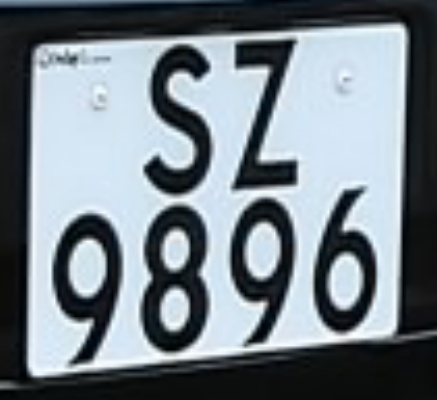6: (305, 174, 393, 343)
8: (124, 196, 224, 365)
9: (37, 199, 138, 375), (221, 188, 313, 353)
S: (123, 31, 230, 210)
Z: (217, 23, 314, 204)
